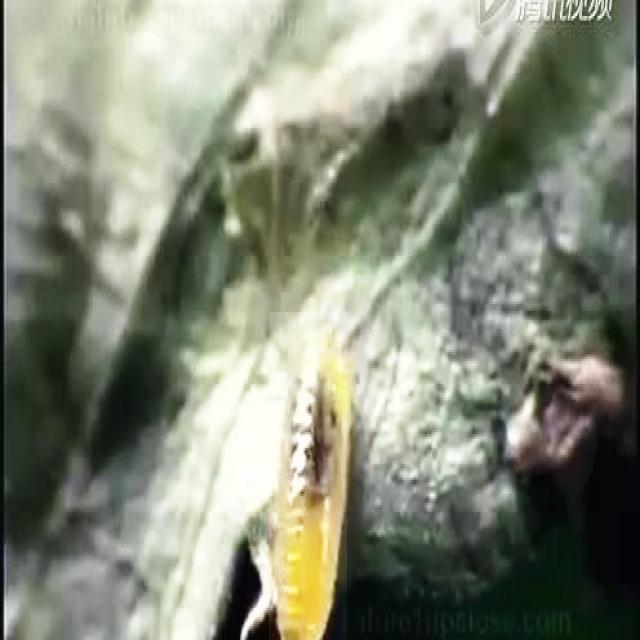whorl-maggot: (270, 312, 348, 640)
